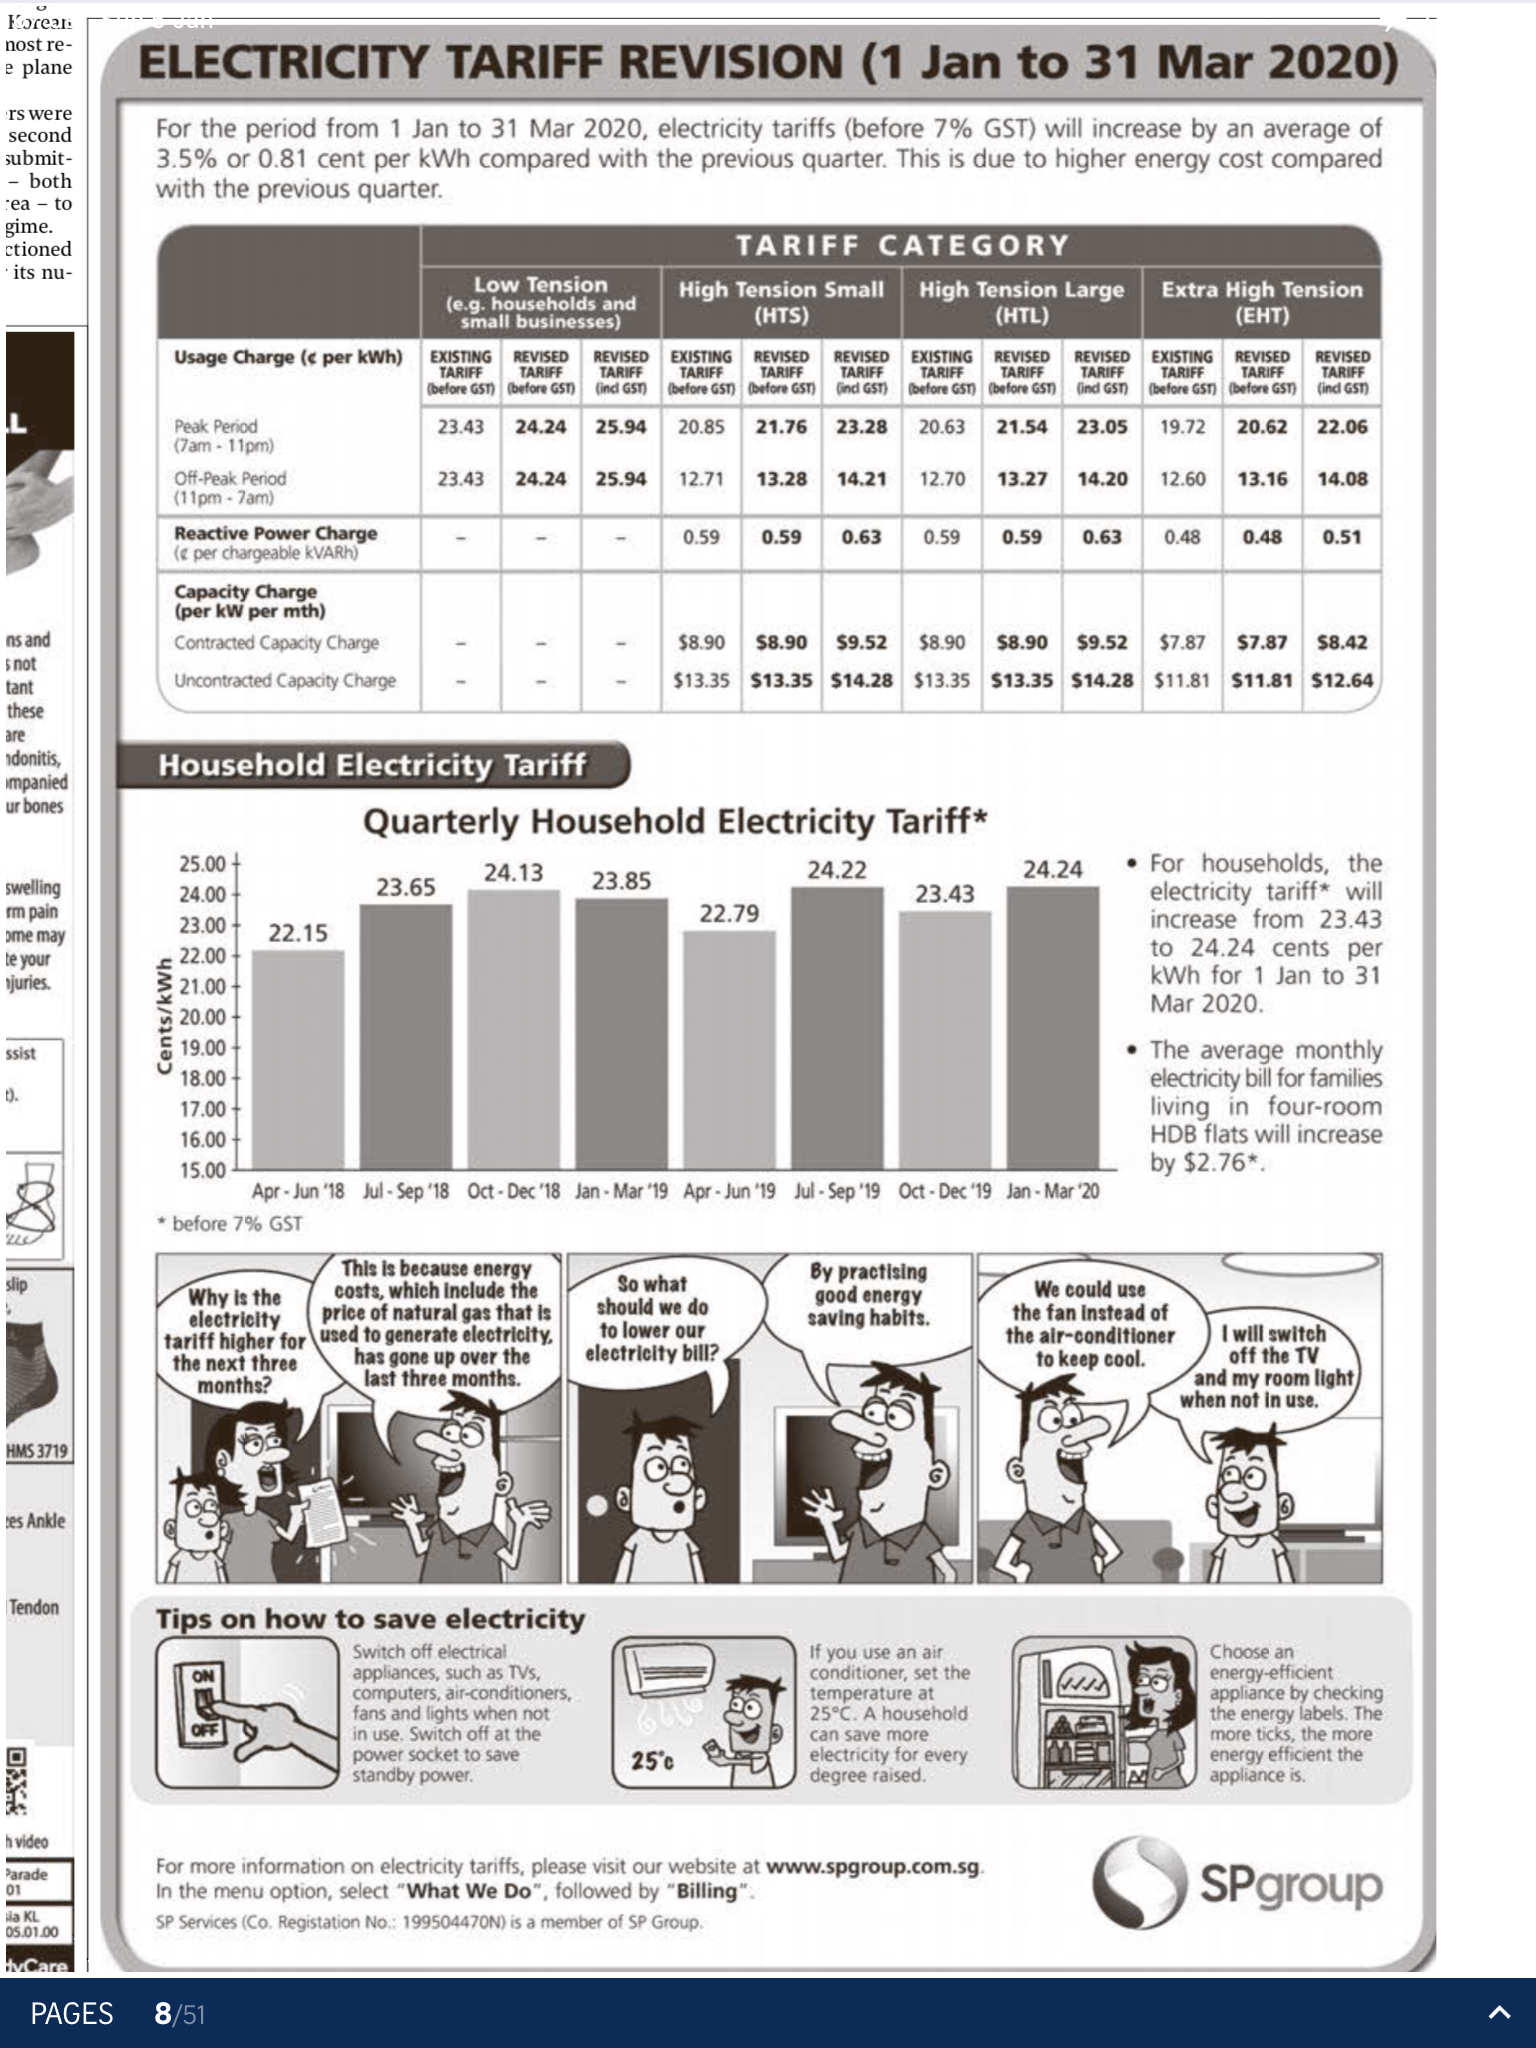Headline: (134, 31, 1409, 94), (152, 1601, 597, 1645), (148, 743, 600, 784)
Illustration: (344, 1634, 581, 1787), (1204, 1638, 1394, 1793), (802, 1638, 975, 1793)
Image: (144, 211, 1397, 726), (132, 793, 1120, 1214), (158, 1251, 560, 1592), (565, 1258, 978, 1588), (978, 1258, 1392, 1584), (1005, 1632, 1204, 1793), (607, 1630, 805, 1785), (152, 1632, 345, 1787)
Text: (144, 108, 1397, 206), (1118, 847, 1399, 1193), (144, 1840, 997, 1908)
